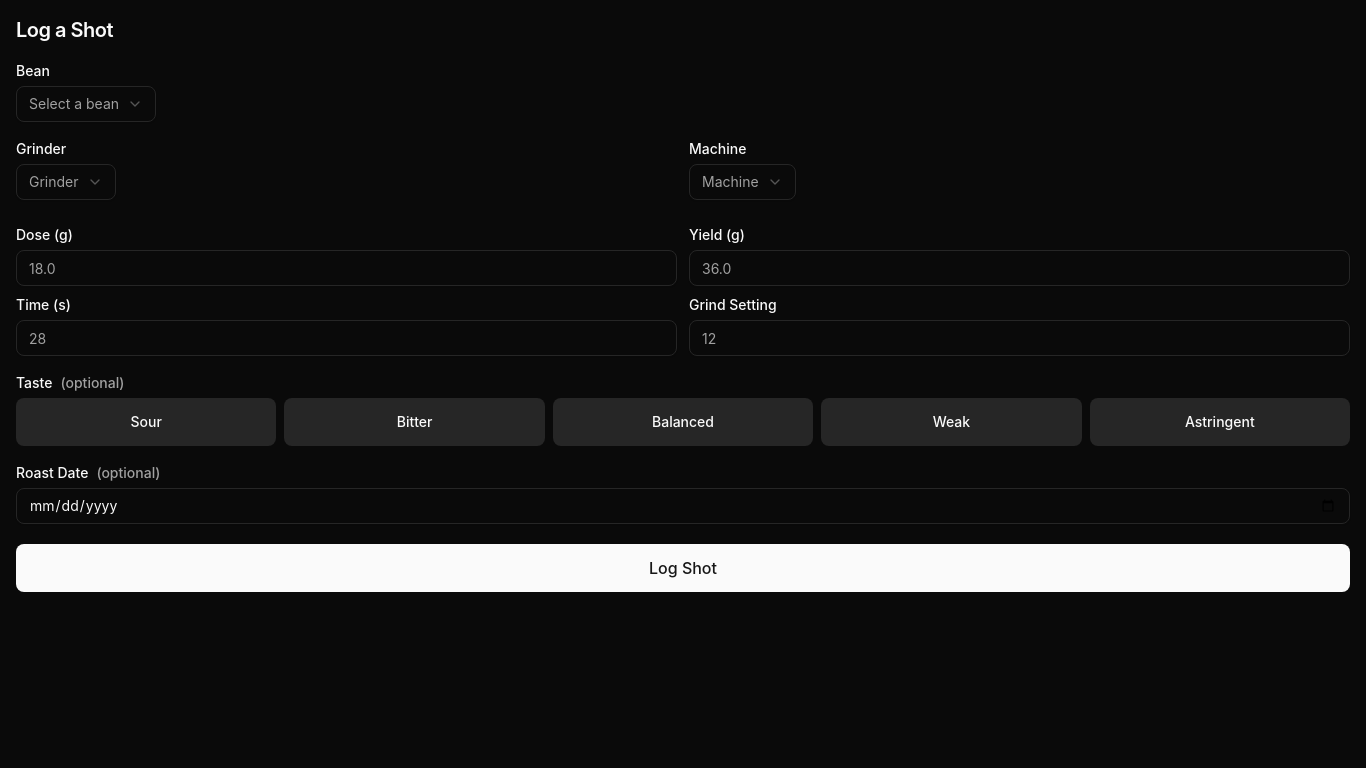
Test: LogShot › hides intensity options when balanced is selected
This screenshot has width=1366, height=768.
What coordinates should you click on to do the following:
click the button "Sour"
I would click on:
 (146, 422)
Its box is [16, 398, 276, 446].
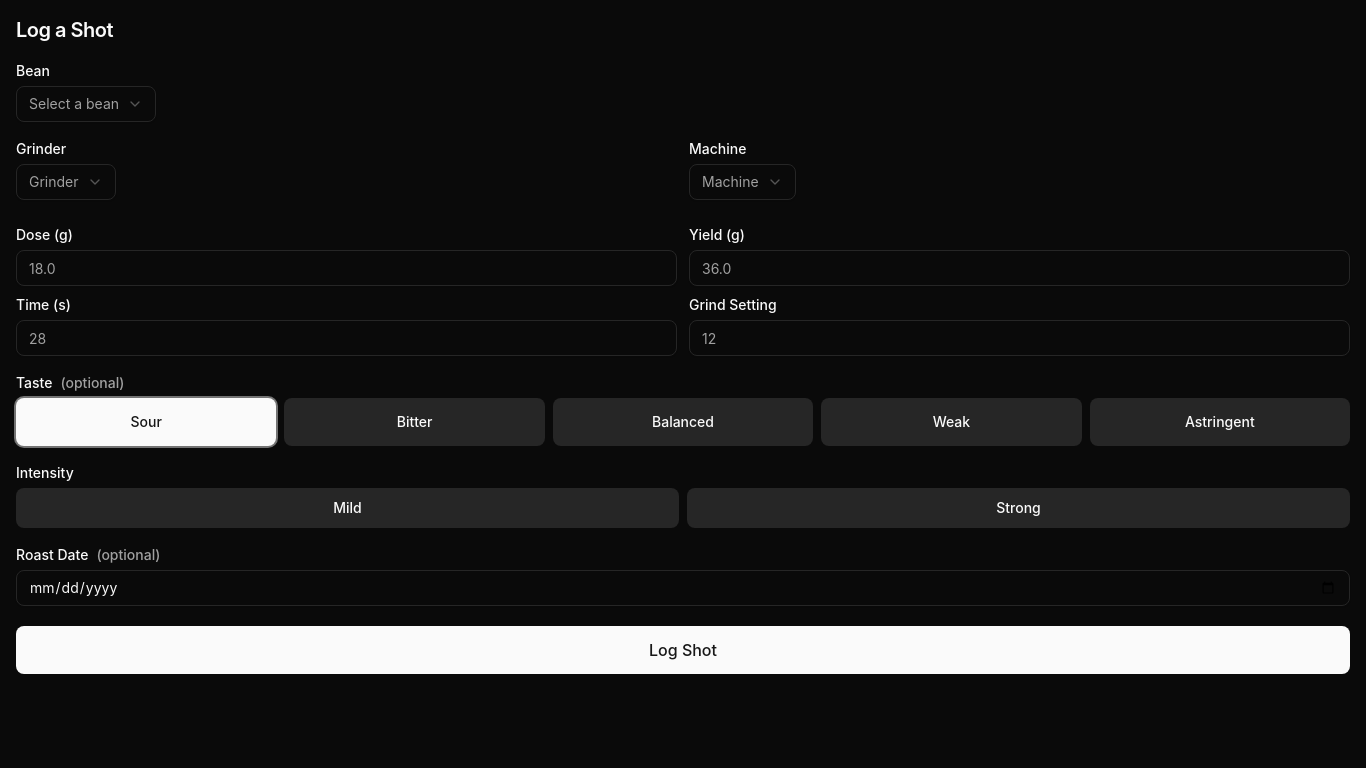
Expected: the button "Mild" is shown, [16, 488, 679, 528]
What coordinates should you click on to do the following:
click the button "Balanced"
I would click on:
 (683, 422)
Its box is [553, 398, 813, 446].
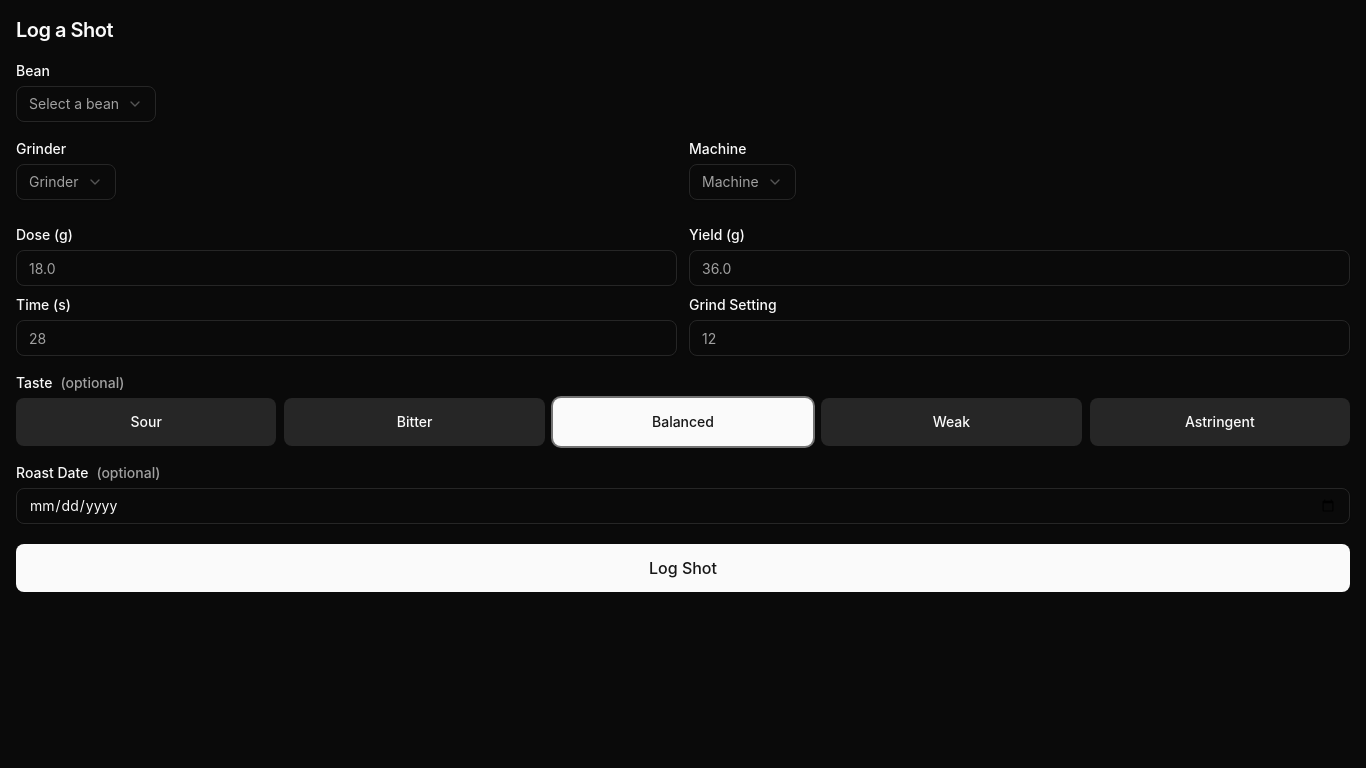
Expected: the button "Mild" is gone
